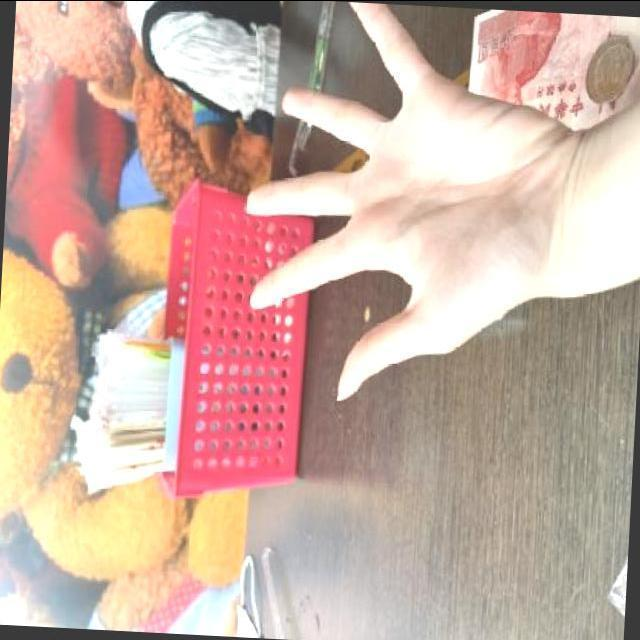hand: (213, 0, 600, 420)
